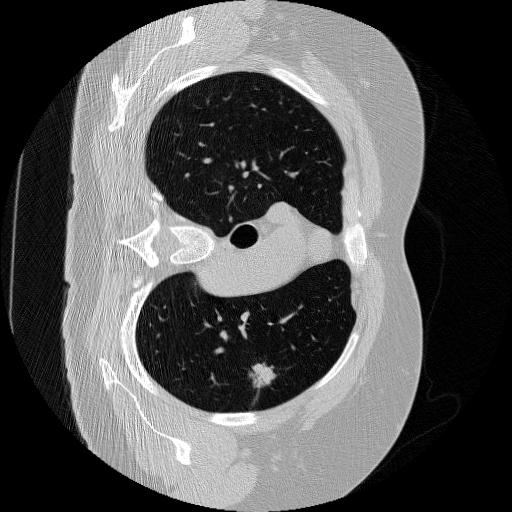nodule: (248, 360, 280, 392)
